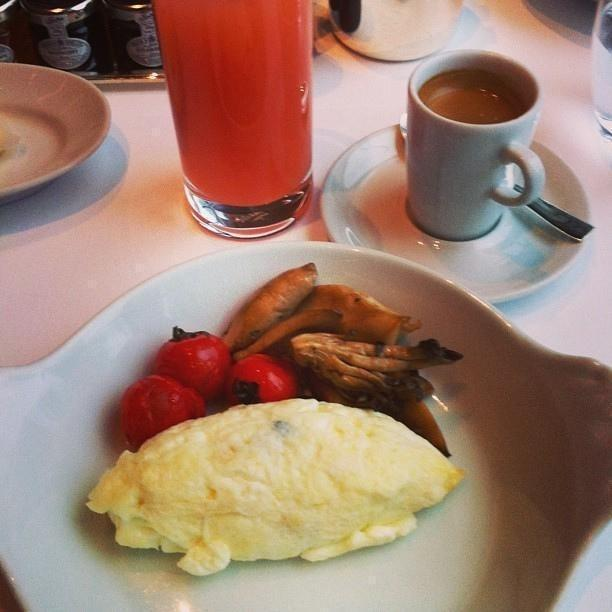cup-handle: (403, 50, 547, 240)
glass-normal: (152, 2, 317, 235)
